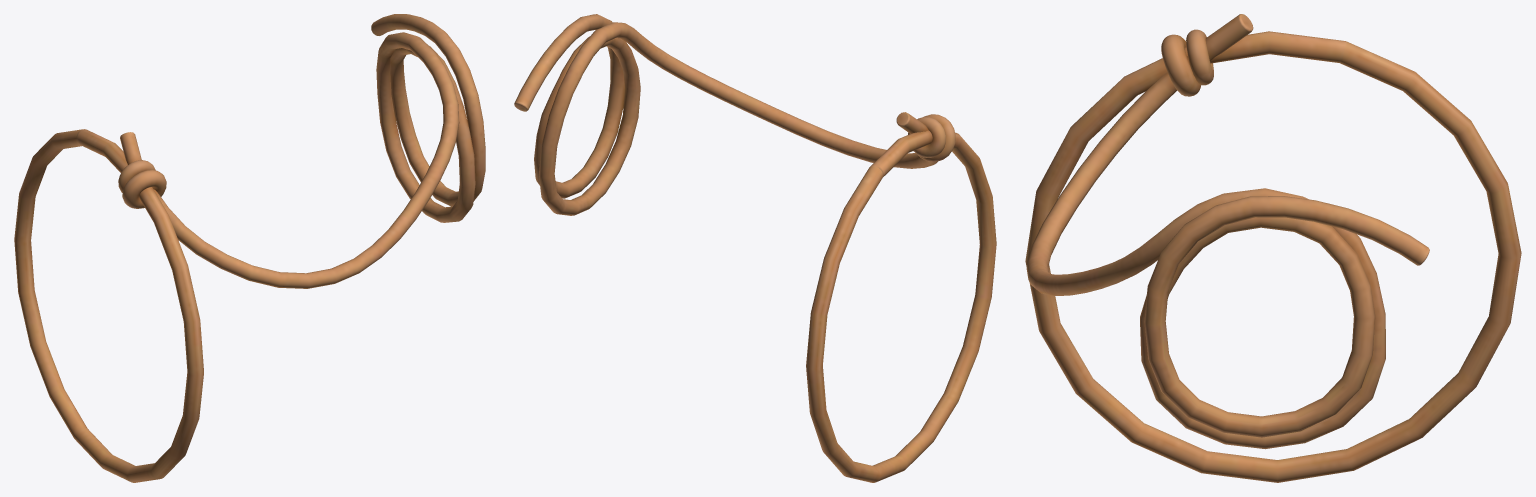
File: rope.fbx
3 renders of one model, left to right at view 1: azimuth 30°, elevation 25°; view 2: azimuth 150°, elevation 25°; view 3: azimuth 270°, elevation 25°, orthographic. The views are drawn at different scales.
Visible parts, largest first — view 1: rope 1, ropeloop; view 2: rope 1, ropeloop; view 3: rope 1, ropeloop.
Boxes of the visible parts, x1,y1,x2,y2 form: rope 1: (118,14,485,288); ropeloop: (14,129,203,482); rope 1: (514,14,955,215); ropeloop: (806,130,996,482); rope 1: (1026,14,1429,449); ropeloop: (1025,31,1521,482).
Bounding box in the file's own units: 256 × 253 × 227.
Materials: 1 (1 with a texture image).
